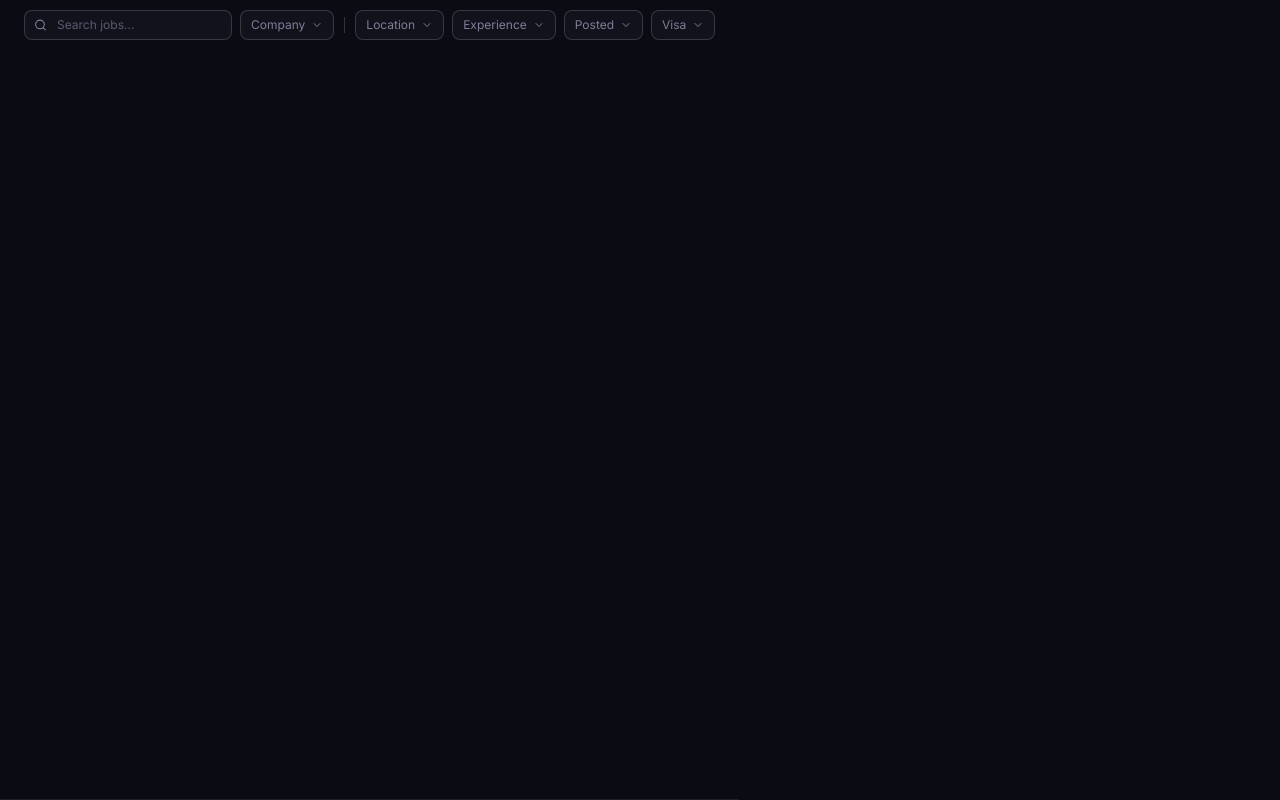
Test: JobFilters — desktop › shows "No companies" when a Company search matches nothing
The image size is (1280, 800).
Click the button "Company" at (287, 25), box 240,10 -> 334,40
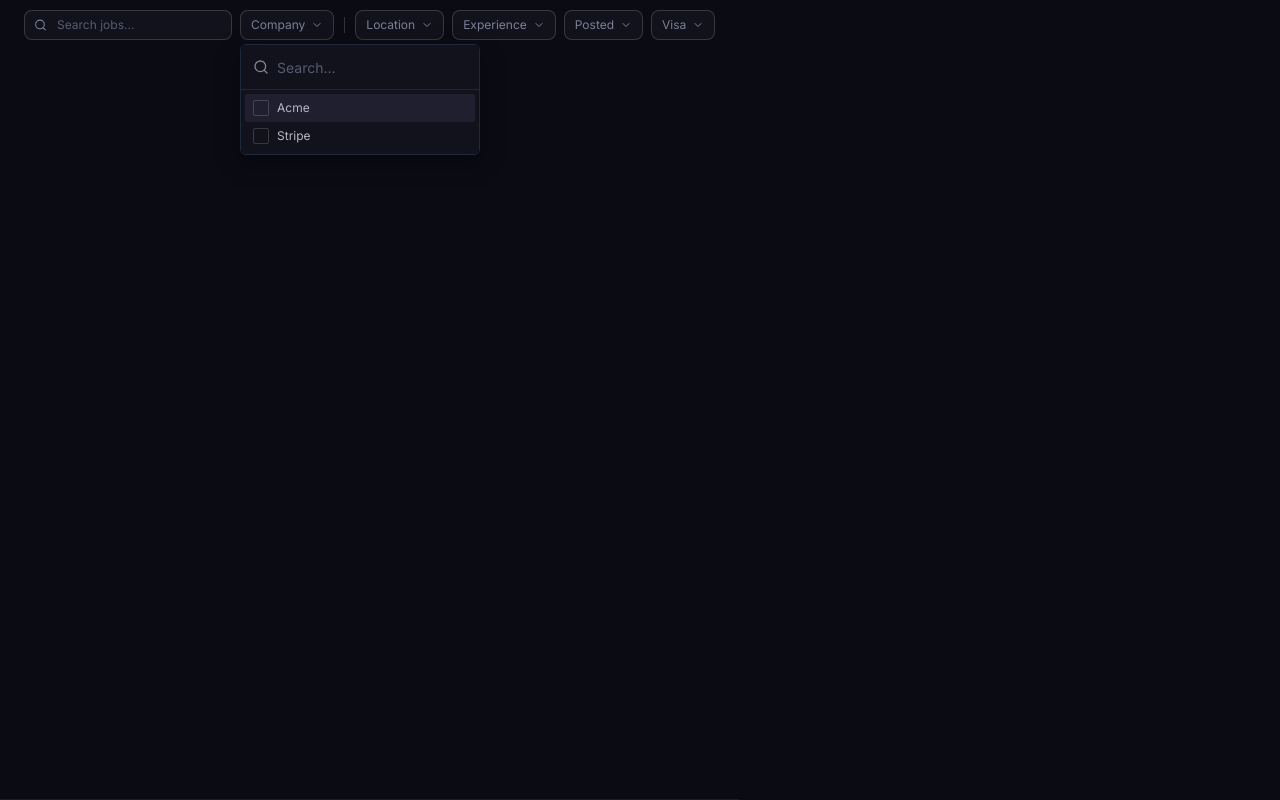
Type "zzz" into the dropdown with placeholder "Search…" at (372, 67), box 277,45 -> 467,89
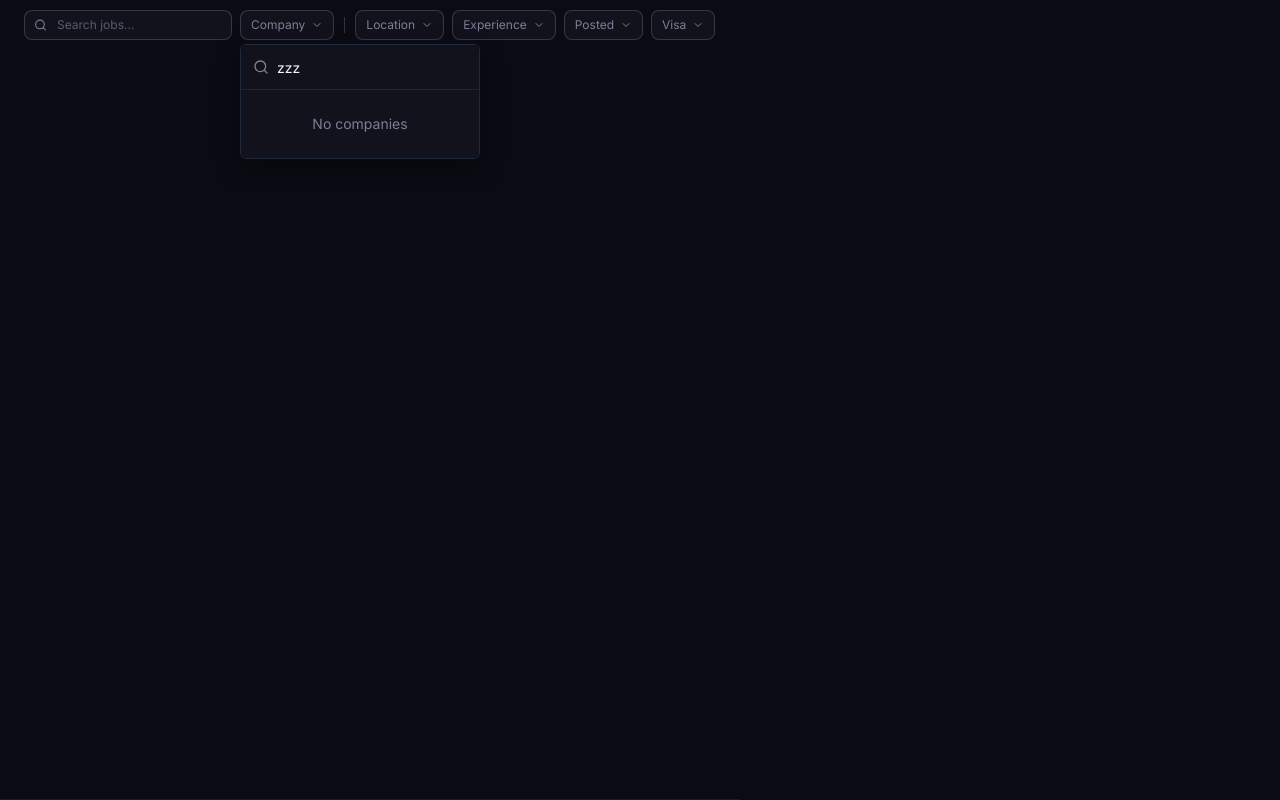
Expected: the text "No companies" is shown, 312,115 -> 408,132
